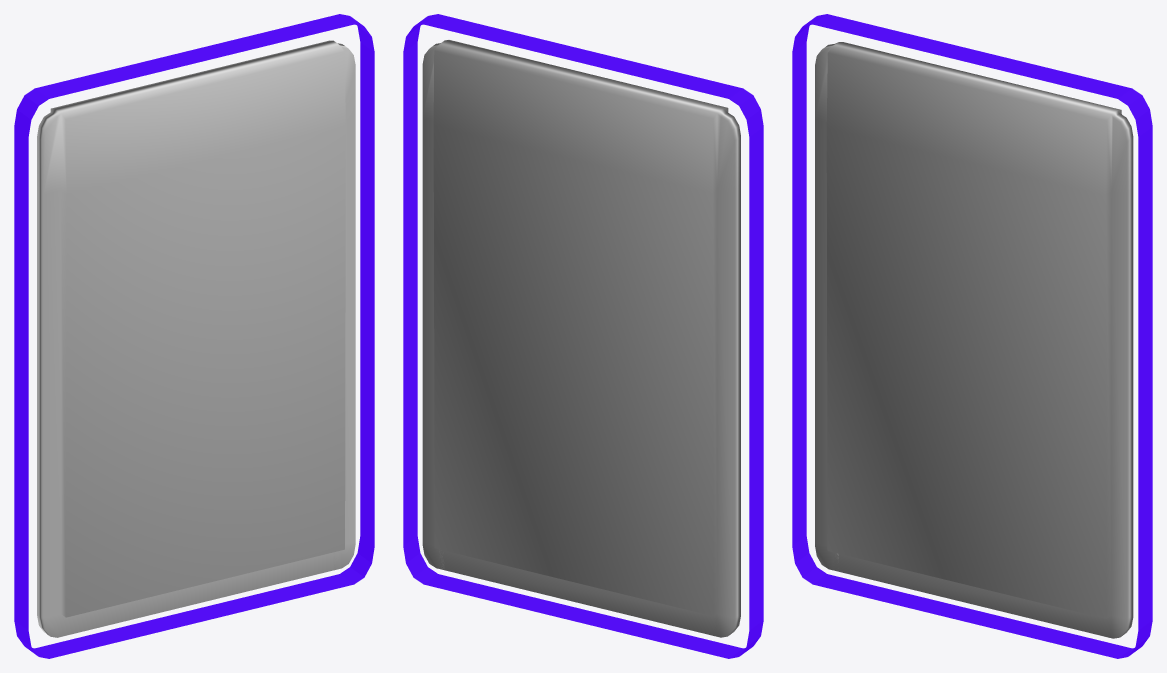
File: venom.glb
The picture shows the model from 3 angles, left to right: view 1: azimuth 30°, elevation 25°; view 2: azimuth 150°, elevation 25°; view 3: azimuth 330°, elevation 25°; orthographic projection.
Visible parts, largest first — view 1: Cube, Cube.001; view 2: Cube, Cube.001; view 3: Cube, Cube.001.
Boxes of the visible parts, x1,y1,x2,y2 form: Cube: (37,40,355,637); Cube.001: (14,14,374,658); Cube: (422,40,740,637); Cube.001: (403,14,763,658); Cube: (815,42,1133,638); Cube.001: (792,14,1152,658).
Size of the model in its own units: 1.4 by 2.17 by 0.116.
